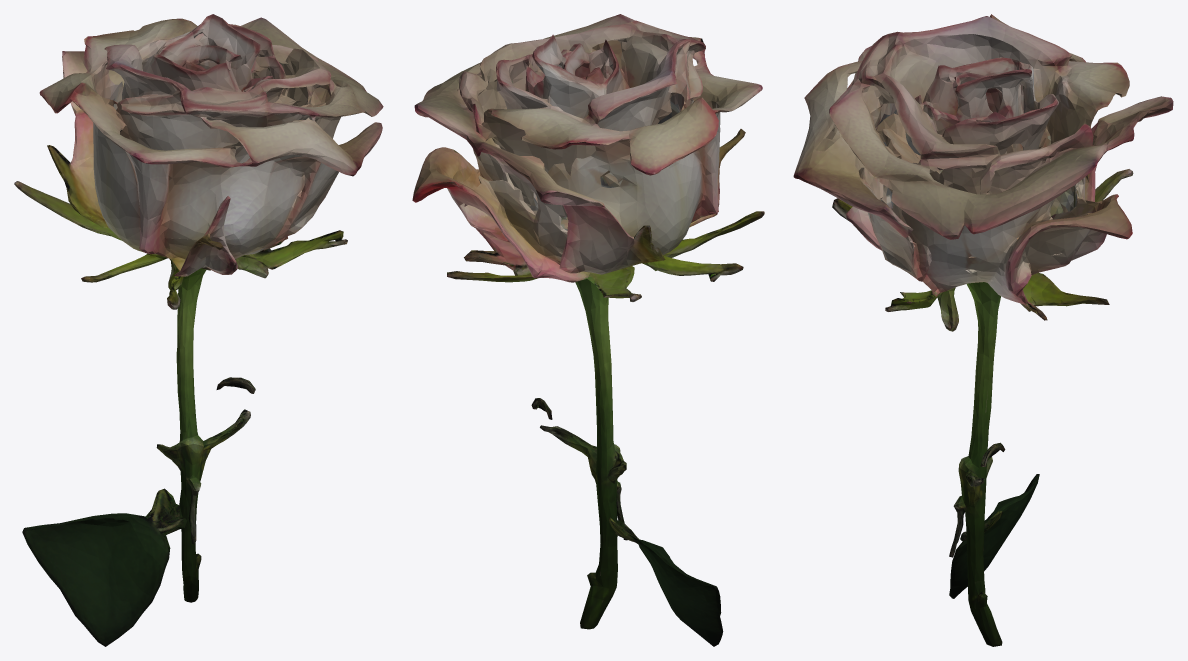
3 views of the same model, side by side, from view 1: azimuth 30°, elevation 25°; view 2: azimuth 150°, elevation 25°; view 3: azimuth 270°, elevation 25° (orthographic). The views are drawn at different scales.
Parts seen in each view (by area): view 1: world; view 2: world; view 3: world.
Part boxes in pixels (x1,y1,x2,y2): world: [14, 14, 383, 646]; world: [412, 14, 764, 646]; world: [793, 14, 1173, 646].
Bounding box in the file's own units: 0.562 × 0.9706 × 0.5543.
1 material, 1 textured.
